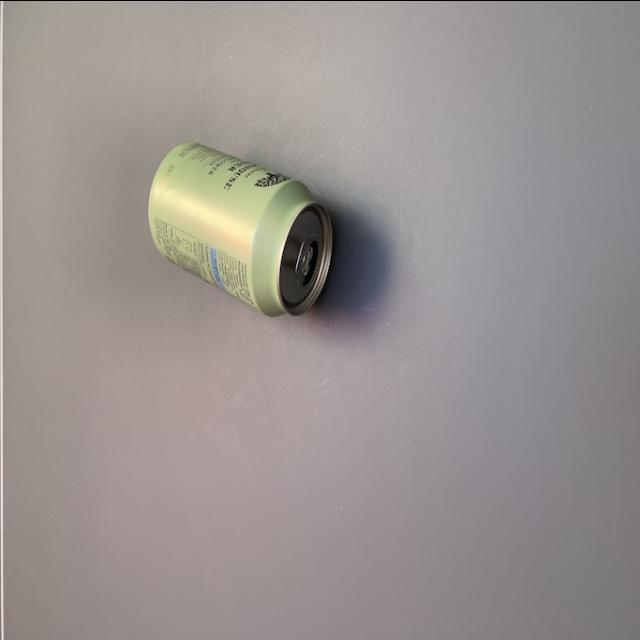Aluminum Can: (143, 129, 340, 319)
